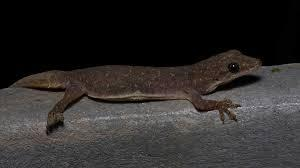lizard: (8, 49, 266, 132)
